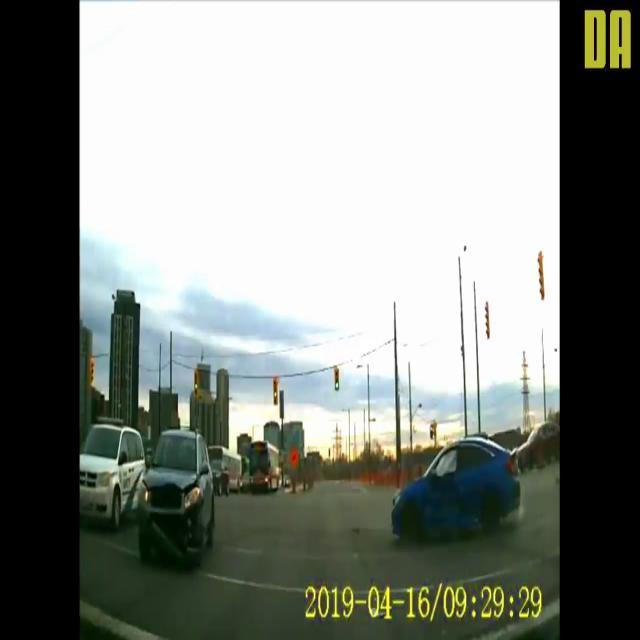multiple_accident: (145, 423, 540, 587)
